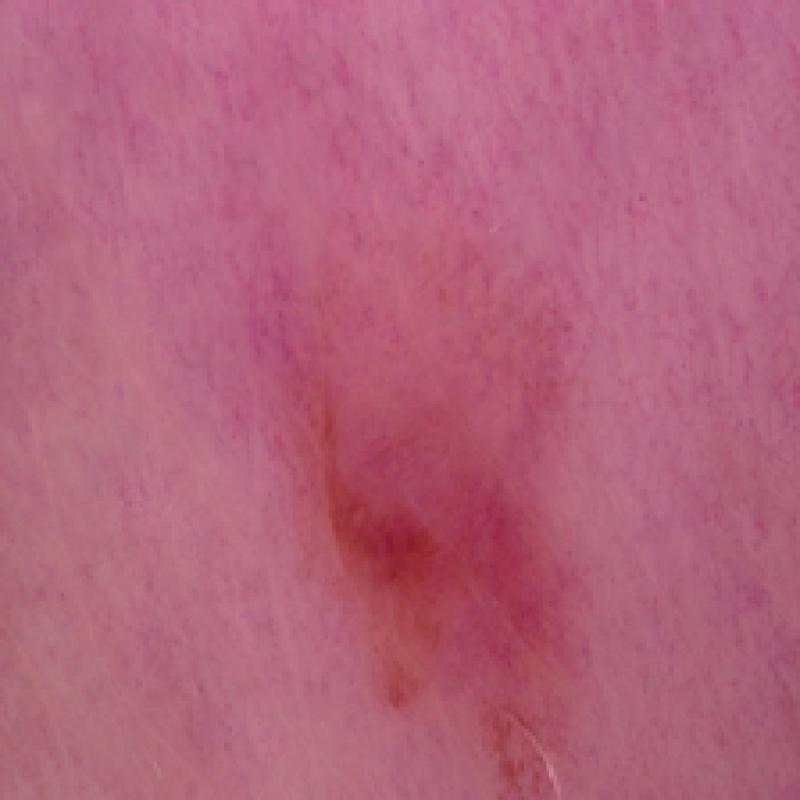benign: (232, 206, 597, 704)
